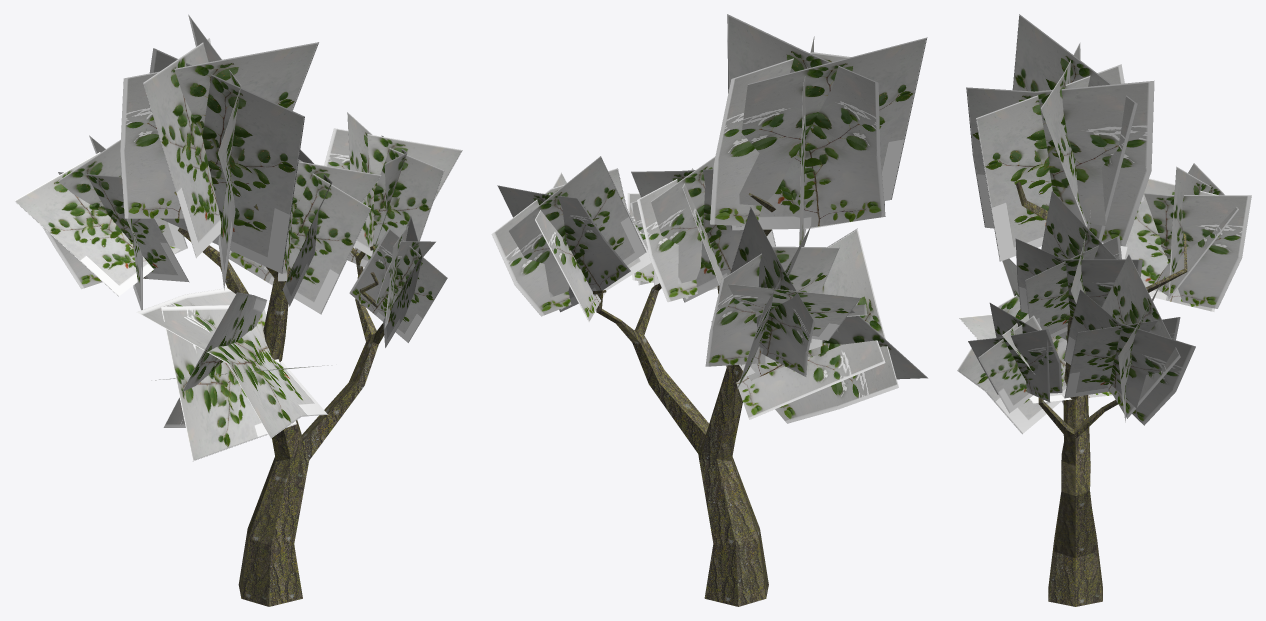
Rendered from tree2.glb.
The picture shows the model from 3 angles, left to right: view 1: azimuth 30°, elevation 25°; view 2: azimuth 150°, elevation 25°; view 3: azimuth 270°, elevation 25°; orthographic projection. The views are drawn at different scales.
Parts seen in each view (by area): view 1: Tree, Plane.005, Plane.004, Plane.030, Plane.031, Plane.007, Plane.027, Plane.009, Plane.013, Plane.017, Plane.025, Plane.024 (+11 smaller); view 2: Plane.004, Tree, Plane.007, Plane.028, Plane.019, Plane.026, Plane.006, Plane.024, Plane.033, Plane.016, Plane.011, Plane.018 (+8 smaller); view 3: Plane.006, Tree, Plane.005, Plane.026, Plane.018, Plane.007, Plane.010, Plane.019, Plane.017, Plane.025, Plane.009, Plane.030 (+11 smaller).
Boxes of the visible parts, x1=… form: Tree: x1=174, y1=191, x2=384, y2=606; Plane.005: x1=149, y1=48, x2=304, y2=273; Plane.004: x1=120, y1=42, x2=318, y2=218; Plane.030: x1=137, y1=288, x2=327, y2=438; Plane.031: x1=161, y1=305, x2=296, y2=461; Plane.007: x1=143, y1=38, x2=221, y2=257; Plane.027: x1=14, y1=152, x2=180, y2=296; Plane.009: x1=228, y1=173, x2=371, y2=314; Plane.013: x1=349, y1=228, x2=447, y2=342; Plane.017: x1=347, y1=148, x2=444, y2=267; Plane.025: x1=58, y1=172, x2=189, y2=282; Plane.024: x1=42, y1=139, x2=187, y2=289; Plane.004: x1=727, y1=14, x2=885, y2=230; Tree: x1=593, y1=193, x2=775, y2=606; Plane.007: x1=728, y1=37, x2=927, y2=227; Plane.028: x1=711, y1=228, x2=898, y2=423; Plane.019: x1=508, y1=156, x2=646, y2=309; Plane.026: x1=705, y1=246, x2=839, y2=366; Plane.006: x1=710, y1=52, x2=884, y2=229; Plane.024: x1=730, y1=207, x2=814, y2=376; Plane.033: x1=736, y1=340, x2=885, y2=419; Plane.016: x1=497, y1=185, x2=630, y2=312; Plane.011: x1=651, y1=156, x2=775, y2=299; Plane.018: x1=491, y1=168, x2=651, y2=316; Plane.006: x1=966, y1=80, x2=1154, y2=246; Tree: x1=1016, y1=181, x2=1187, y2=606; Plane.005: x1=975, y1=64, x2=1144, y2=261; Plane.026: x1=1144, y1=193, x2=1251, y2=308; Plane.018: x1=1063, y1=289, x2=1195, y2=425; Plane.007: x1=1012, y1=14, x2=1137, y2=241; Plane.010: x1=1015, y1=238, x2=1142, y2=317; Plane.019: x1=1101, y1=254, x2=1180, y2=418; Plane.017: x1=1064, y1=317, x2=1180, y2=398; Plane.025: x1=1120, y1=178, x2=1218, y2=311; Plane.009: x1=1025, y1=235, x2=1121, y2=337; Plane.030: x1=957, y1=295, x2=1066, y2=434.
Size of the model in its own units: 15.42 by 20.7 by 10.83.
2 materials, 2 textured.
